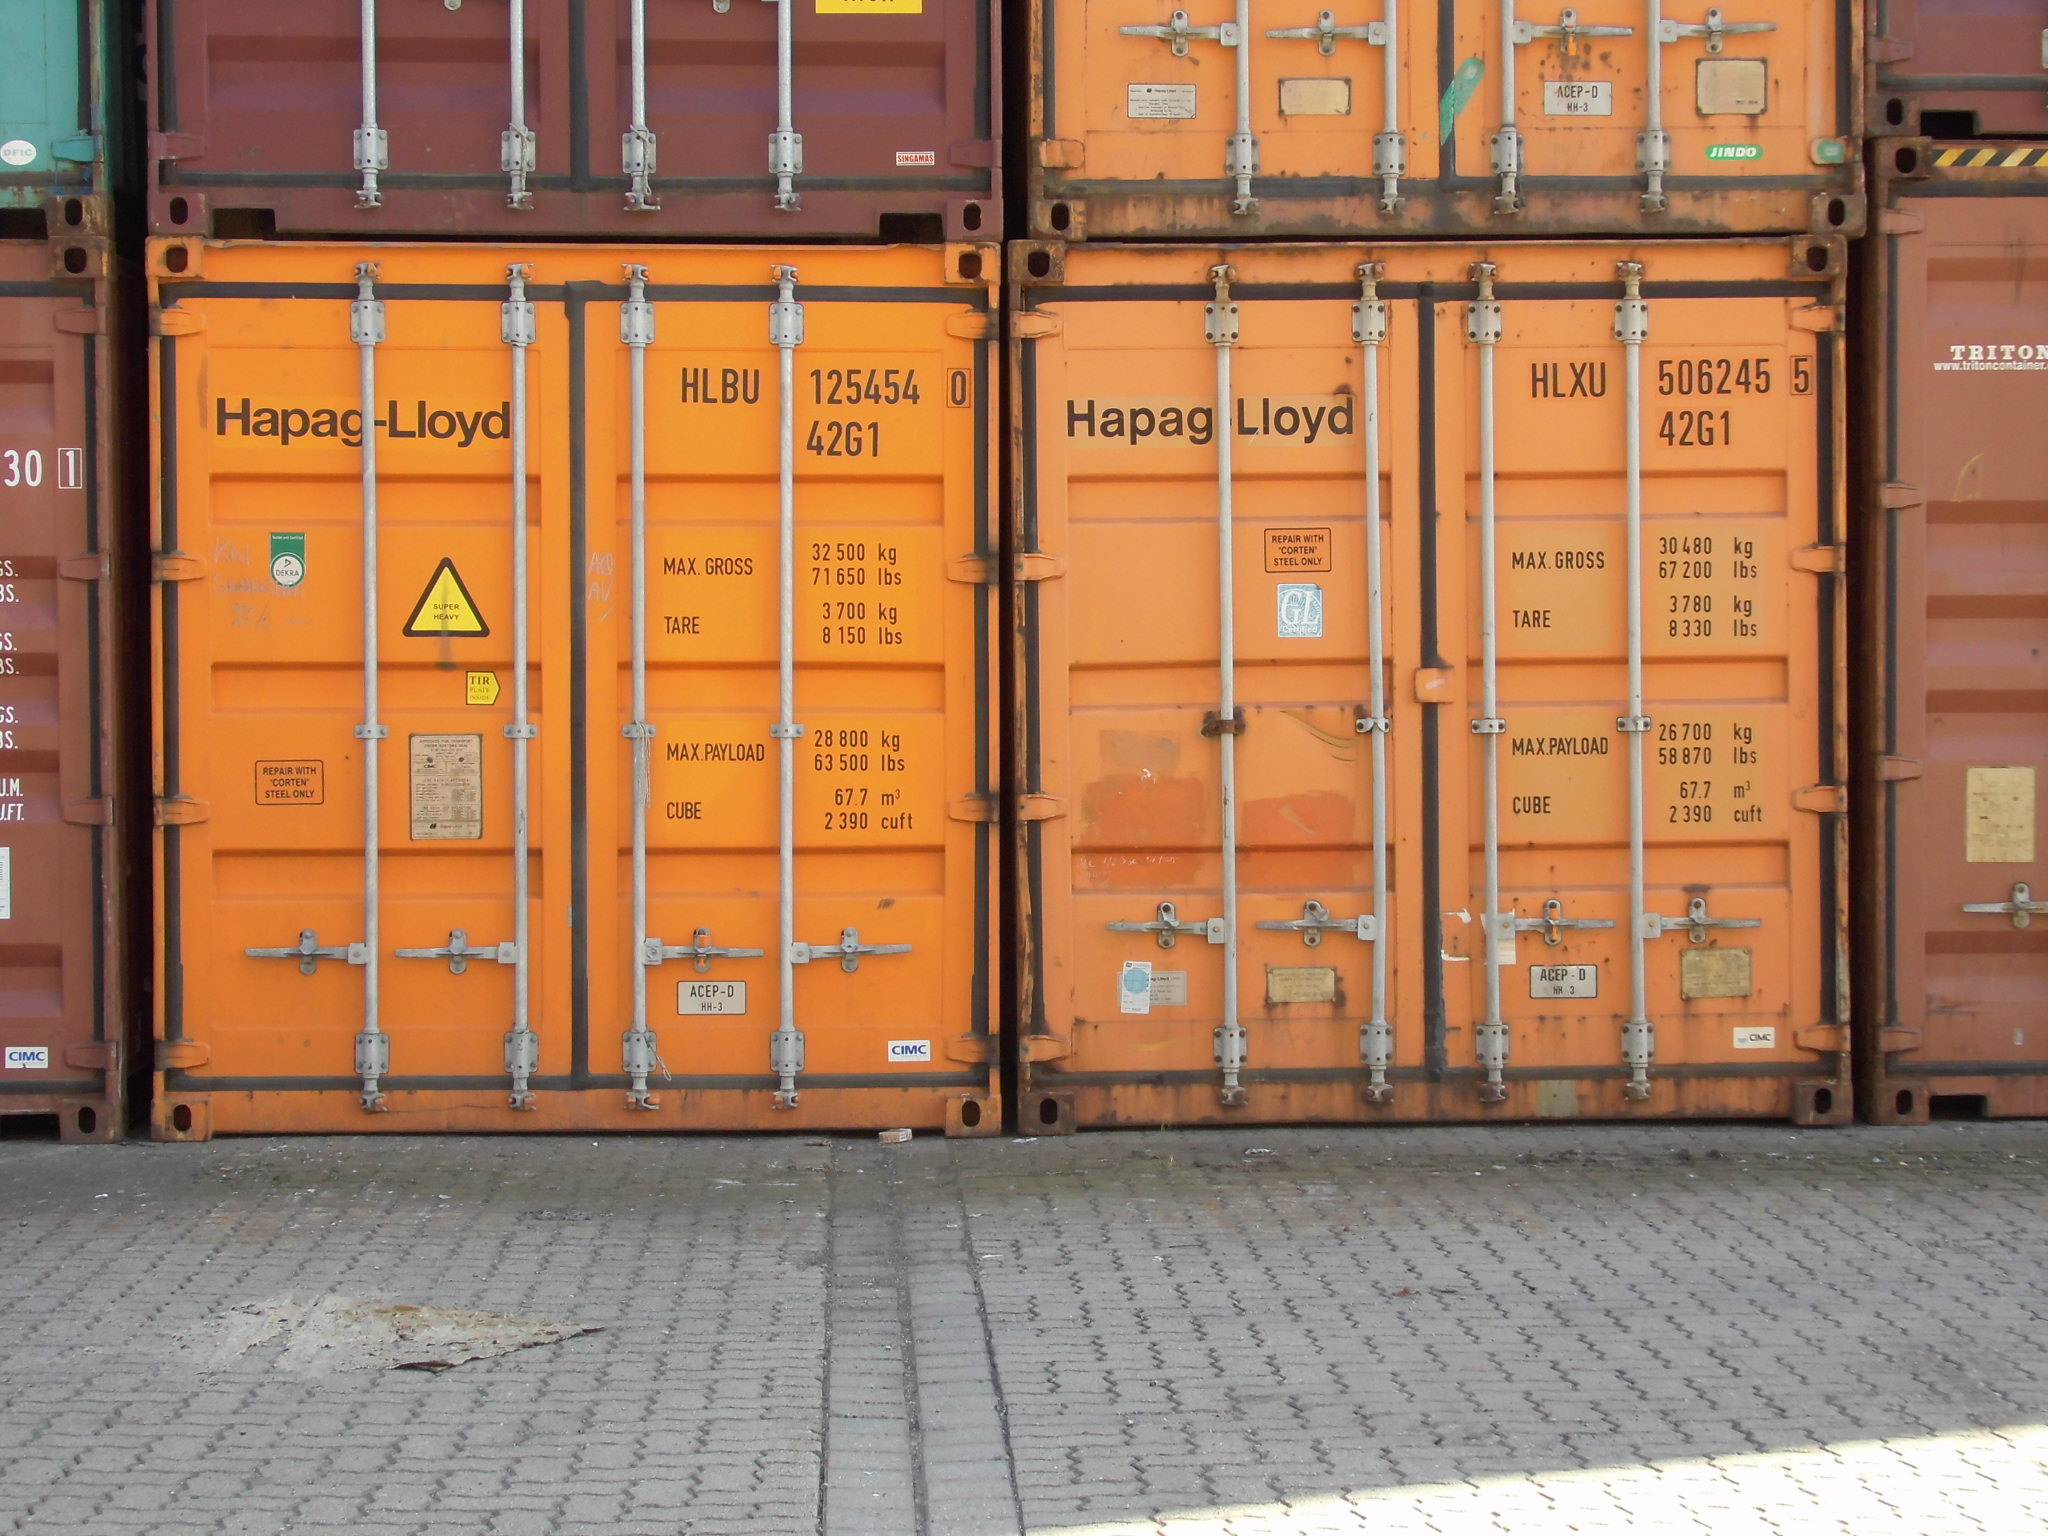container_door: (156, 234, 1005, 1142), (1006, 247, 1854, 1154)
